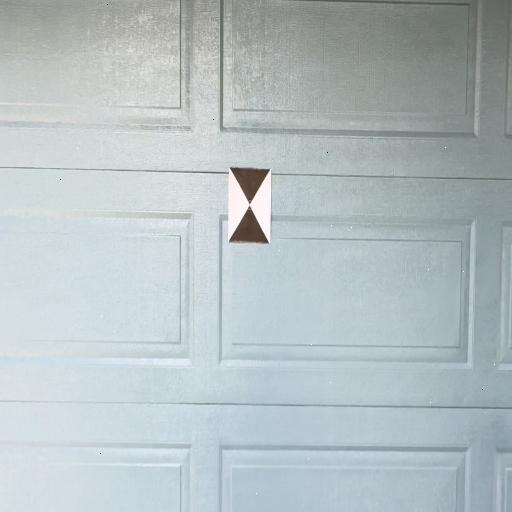target: (228, 167, 272, 243)
